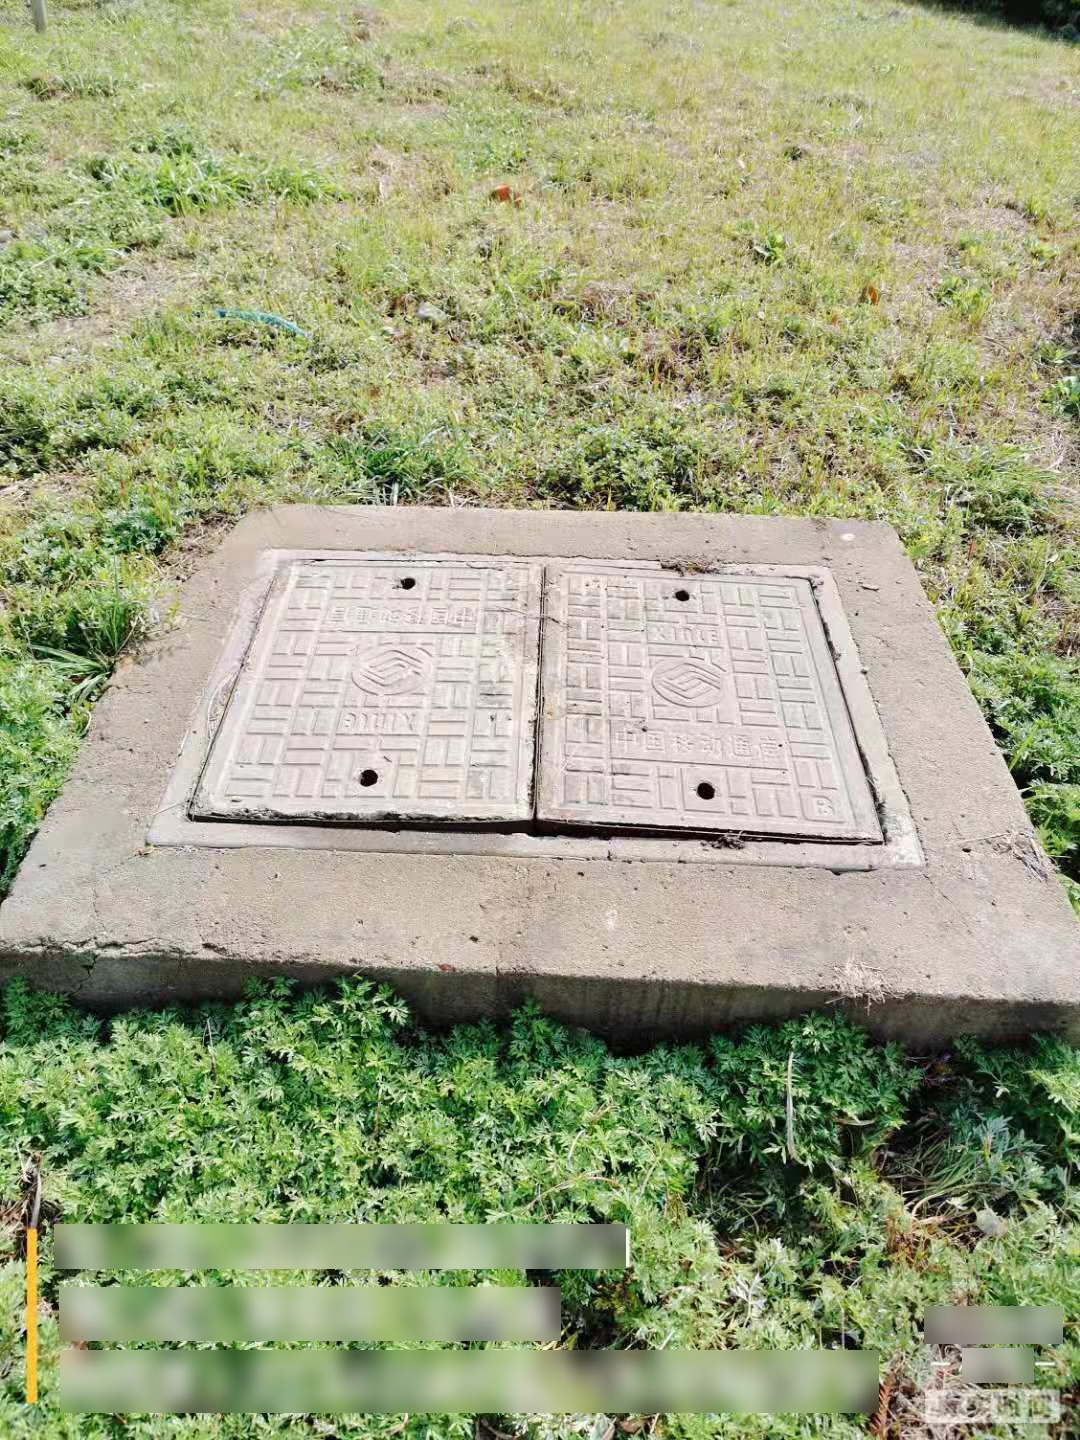well: (138, 548, 923, 869)
